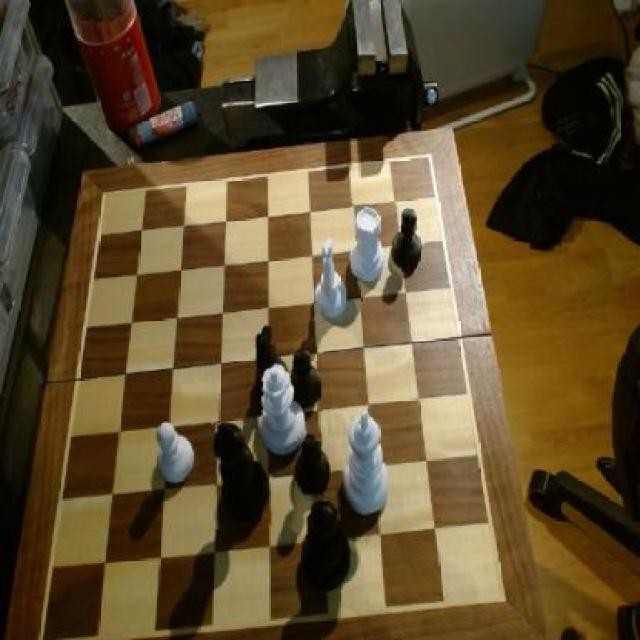black-bishop: (214, 417, 274, 528)
black-king: (252, 325, 293, 397)
black-knight: (295, 432, 333, 502), (389, 204, 424, 274), (288, 346, 323, 412)
black-pawn: (302, 495, 356, 593)
white-bishop: (343, 408, 391, 515)
white-king: (314, 238, 349, 322)
white-knight: (154, 422, 197, 488)
white-pawn: (258, 363, 310, 459)
white-queen: (348, 204, 387, 286)
